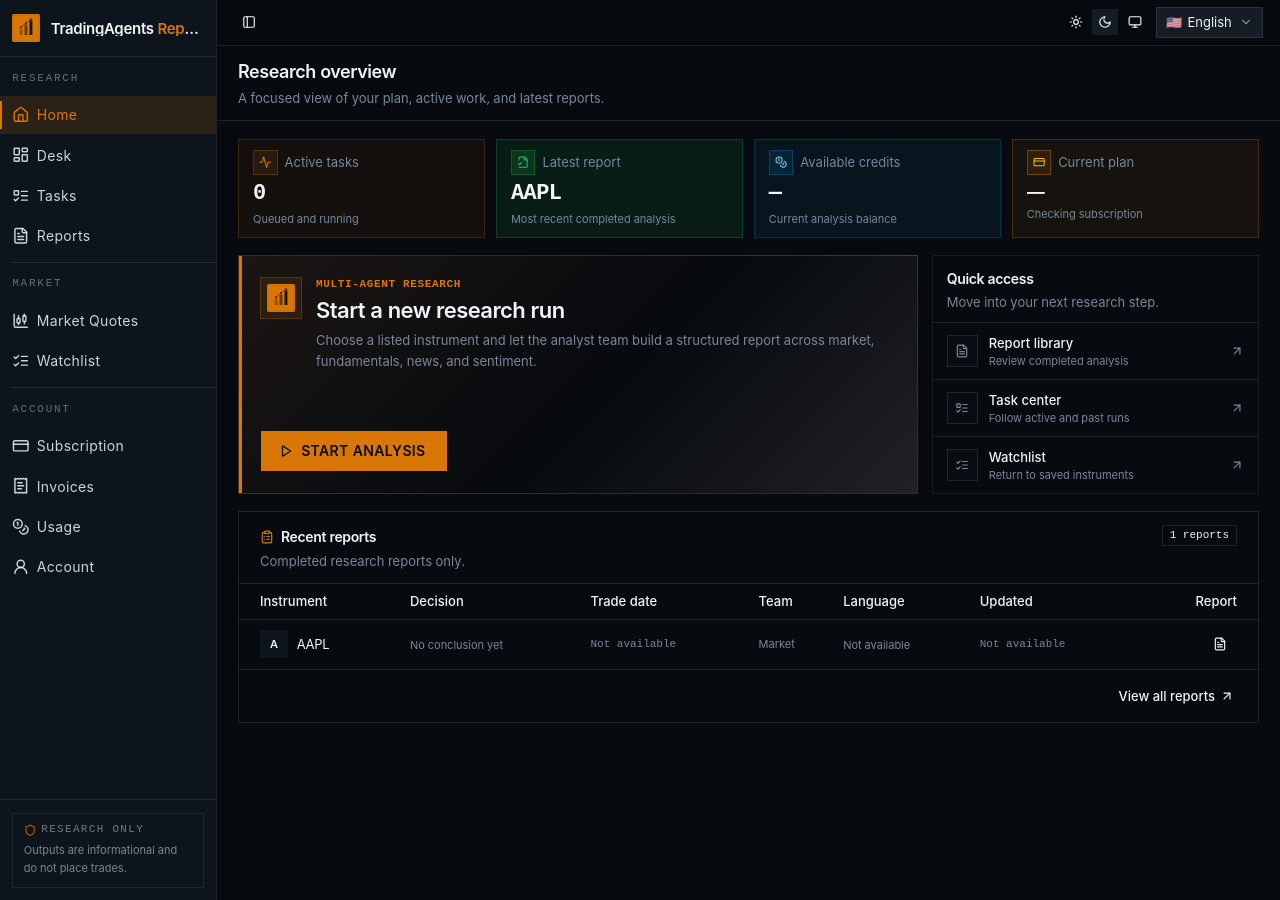
Test case: opens a report action on the report detail page
Click the button named "AAPL".
click(1220, 644)  # box [1202,627,1237,662]
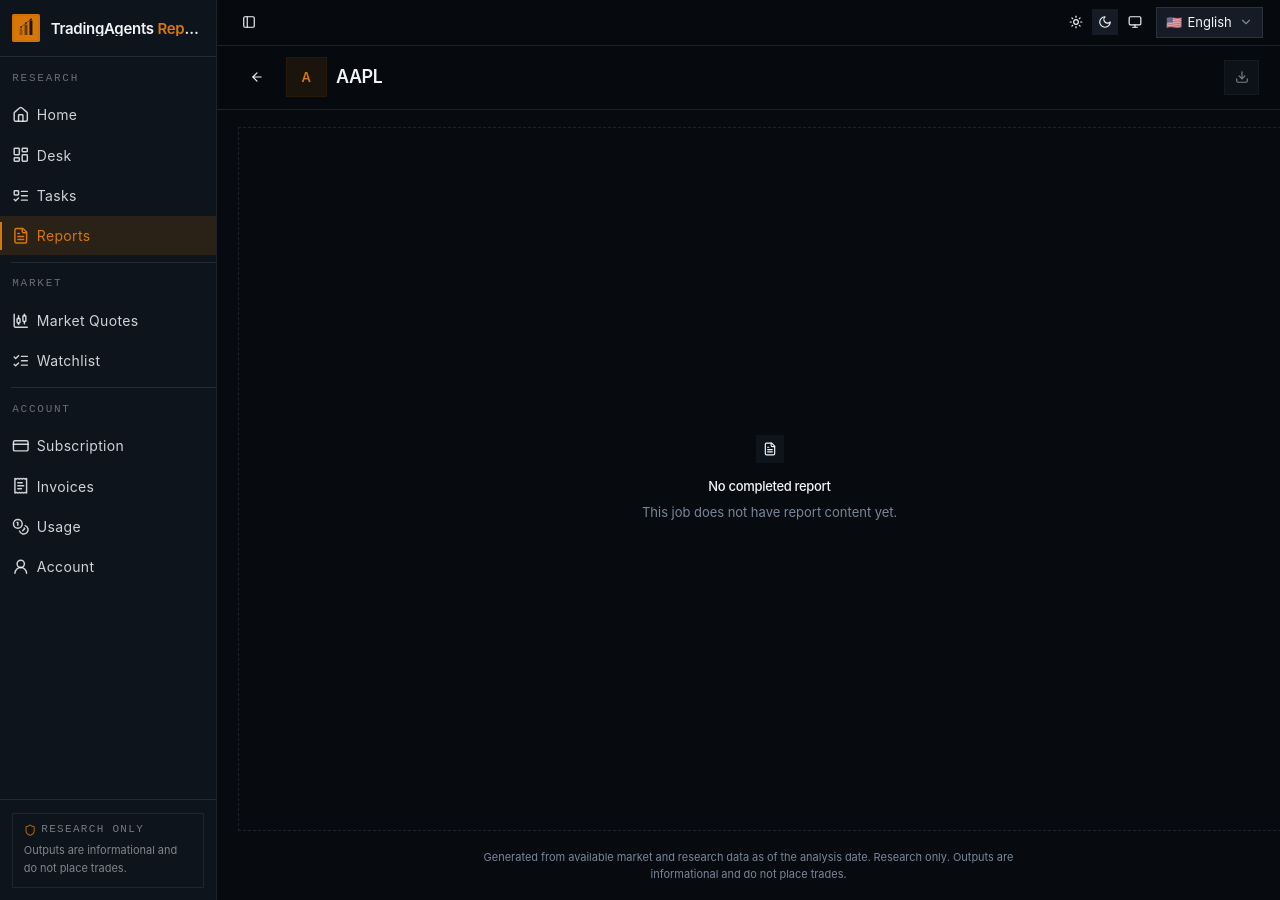
Expected: the heading "AAPL" is shown, [336,63,382,91]
Expected: the text "This job does not have report content yet." is shown, [642,502,897,523]
